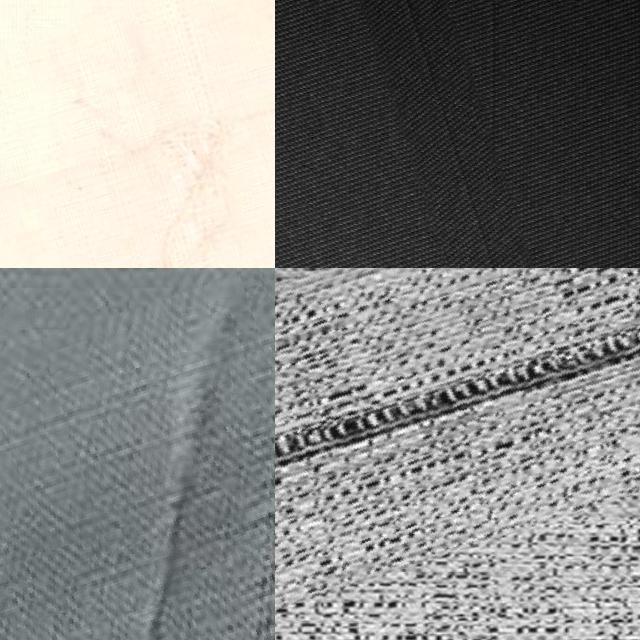stains: (275, 268, 640, 606), (0, 268, 275, 640), (399, 0, 579, 268)
